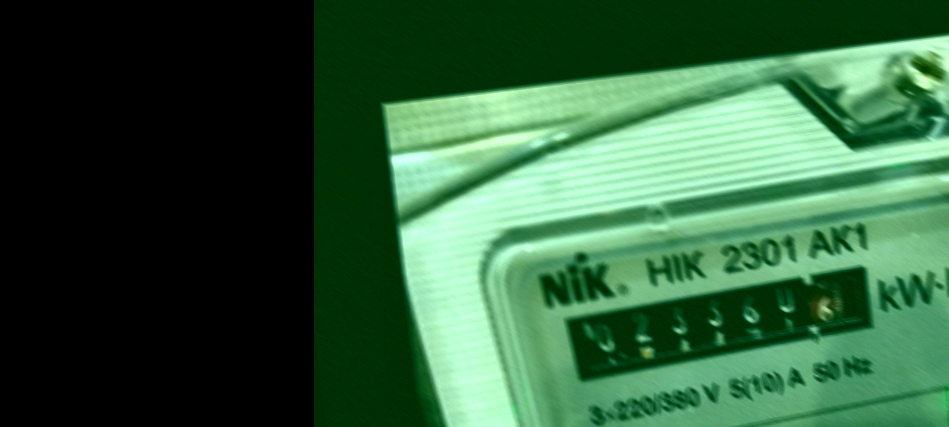0: (592, 318, 618, 355), (772, 282, 798, 316)
2: (630, 309, 654, 344)
3: (703, 293, 726, 328), (666, 304, 689, 337)
6: (738, 291, 763, 326), (814, 290, 838, 326)
screen: (547, 254, 894, 390)
